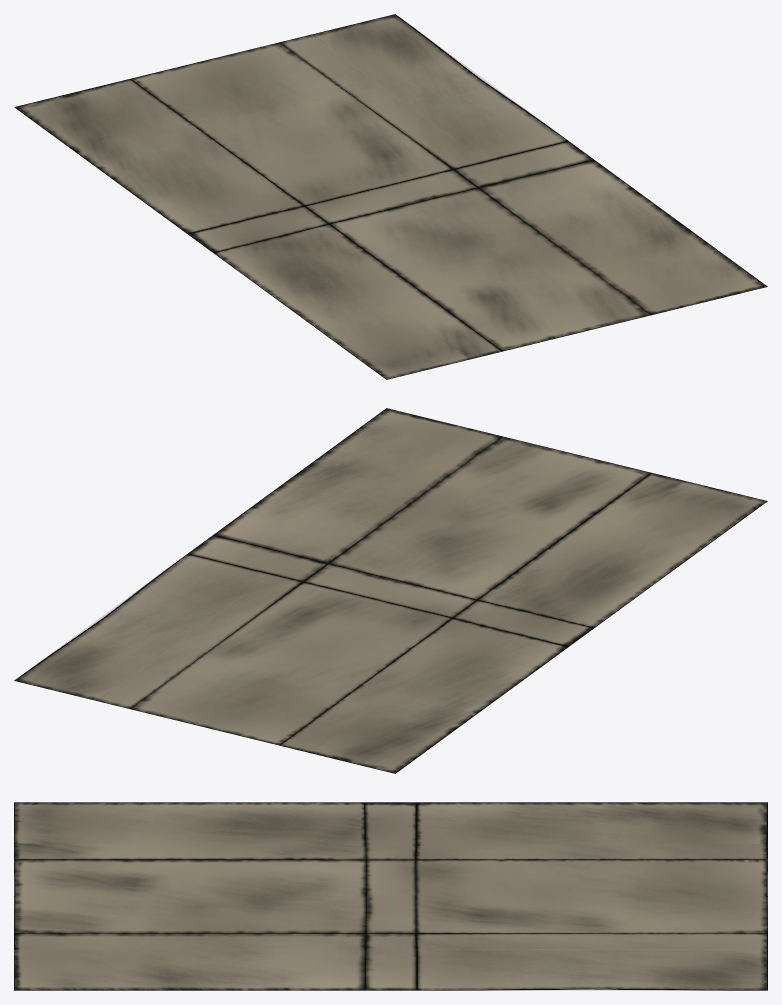
File: StraightTunnel floor.fbx
3 renders of one model, top to bottom at view 1: azimuth 30°, elevation 25°; view 2: azimuth 150°, elevation 25°; view 3: azimuth 270°, elevation 25°, orthographic.
Parts seen in each view (by area): view 1: floor; view 2: floor; view 3: floor.
Boxes of the visible parts, x1,y1,x2,y2 form: floor: (14, 14, 767, 379); floor: (14, 408, 767, 773); floor: (14, 802, 767, 990).
Bounding box in the file's own units: 1000 × 591 × 0.
